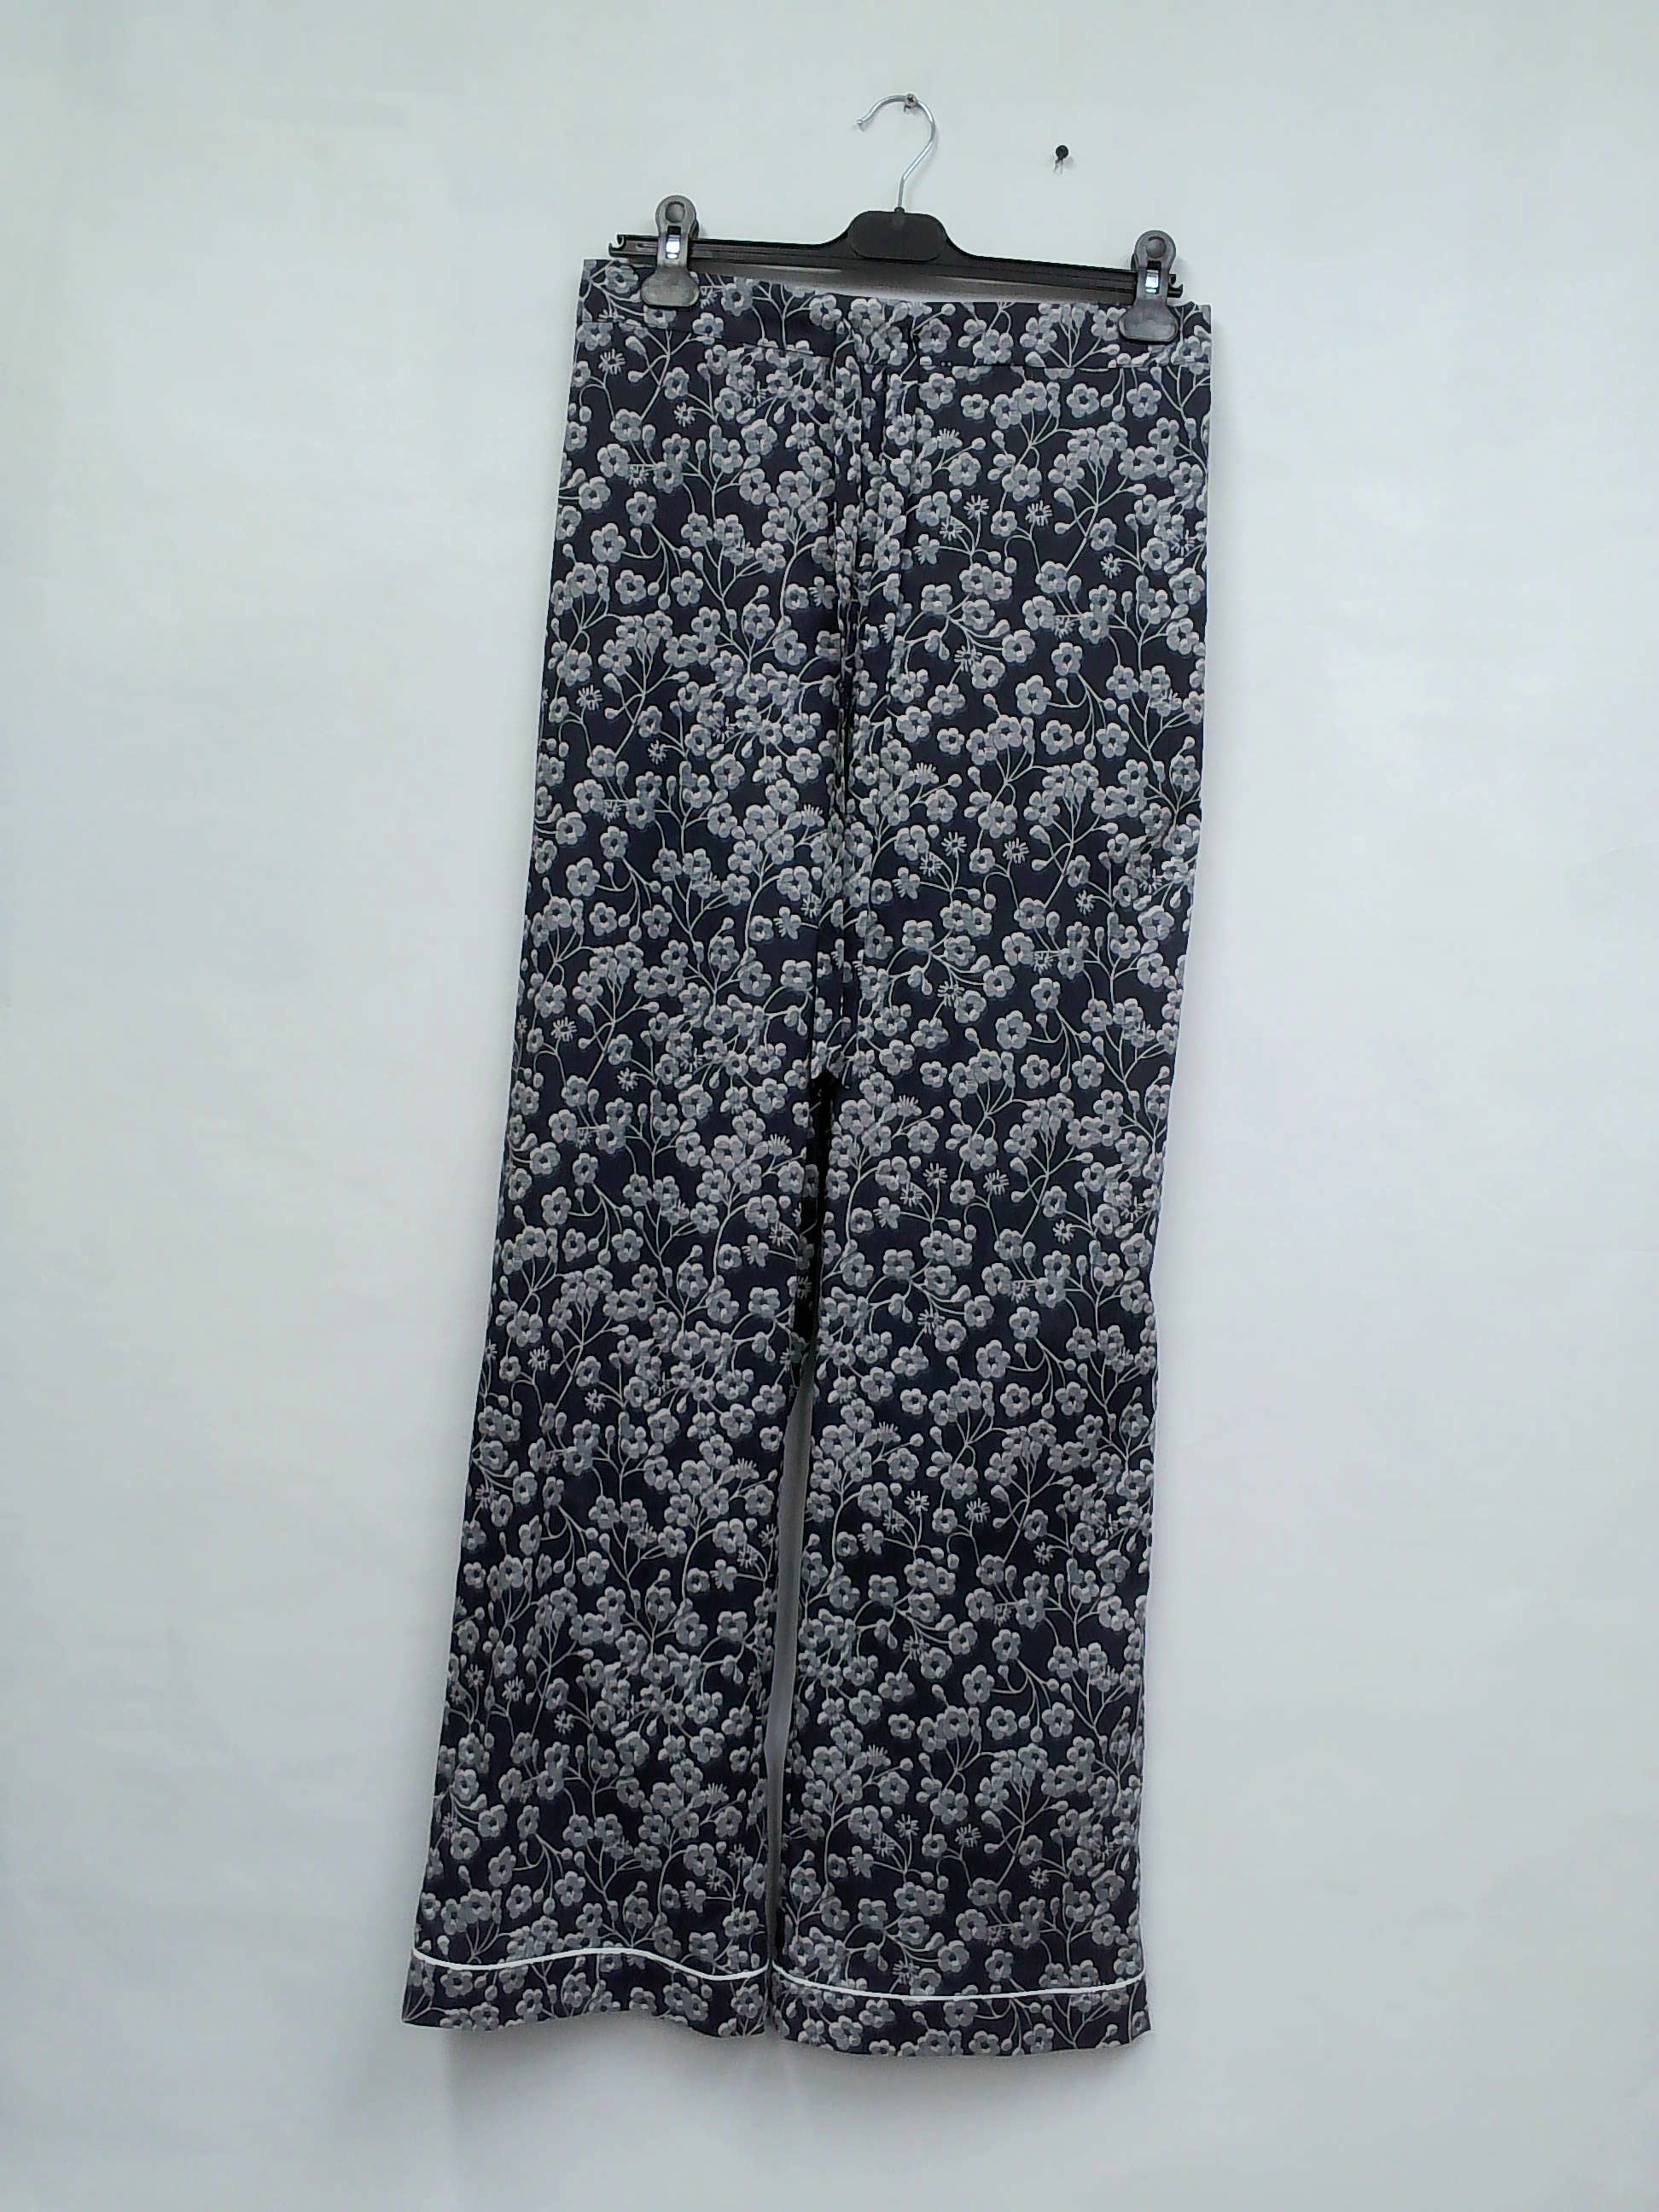bad_fabric: (941, 1420, 1054, 1524)
